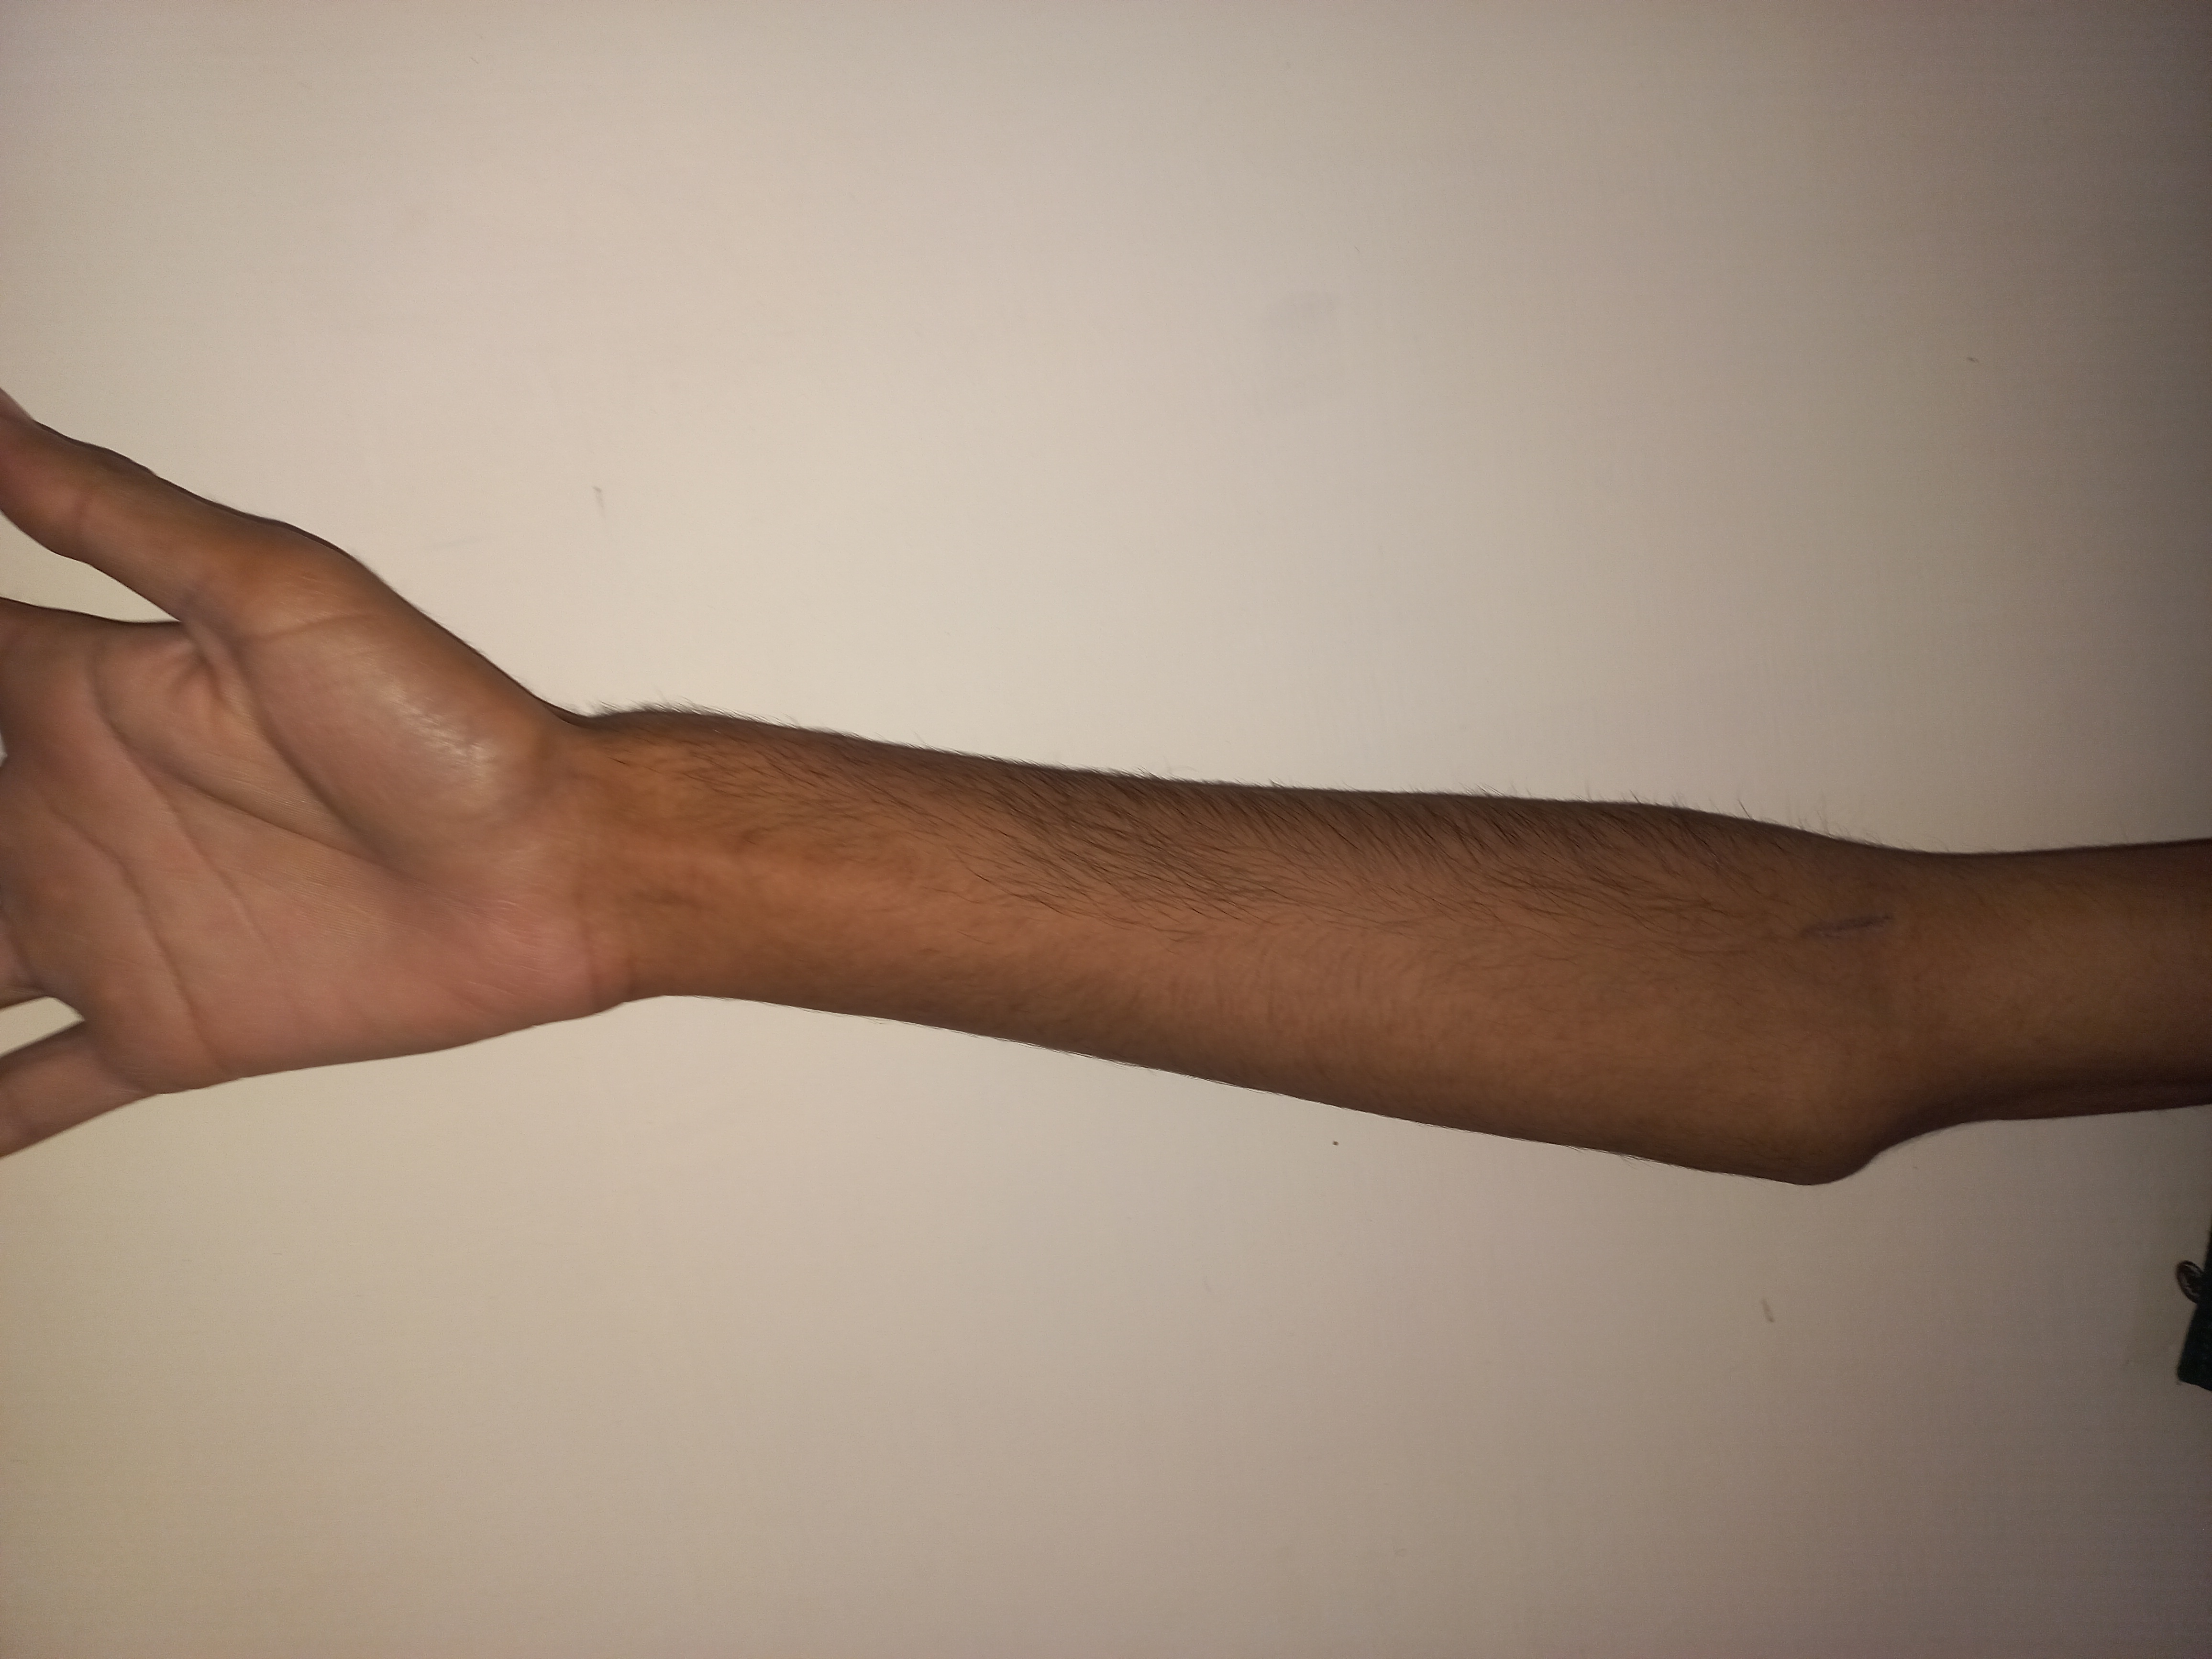vein: (1782, 897, 1940, 965)
